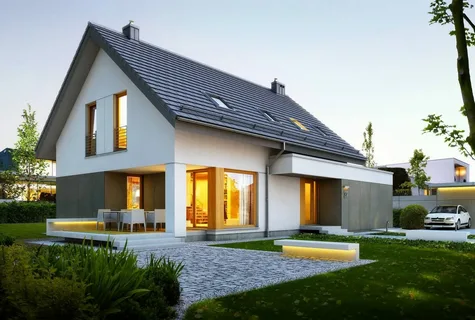private_hause: (60, 44, 371, 226)
